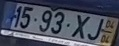1: (13, 4, 23, 29)
3: (48, 10, 65, 35)
5: (18, 5, 34, 29)
9: (37, 8, 52, 33)
J: (86, 17, 105, 42)
X: (70, 13, 91, 40)
